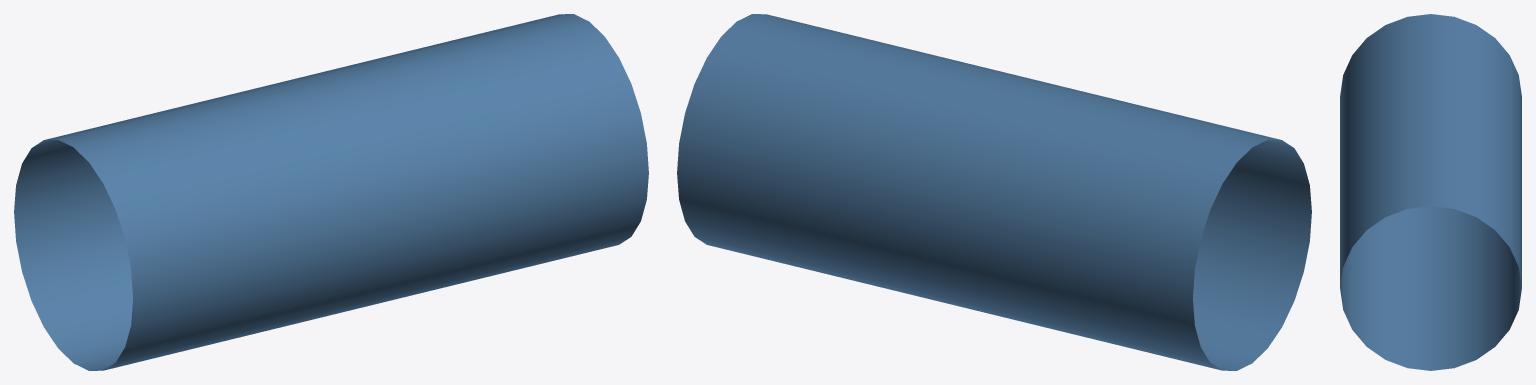
The model's file is Pipe_Short.fbx.
The picture shows the model from 3 angles, left to right: view 1: azimuth 30°, elevation 25°; view 2: azimuth 150°, elevation 25°; view 3: azimuth 270°, elevation 25°; orthographic projection. The views are drawn at different scales.
Visible parts, largest first — view 1: Pipe_Short; view 2: Pipe_Short; view 3: Pipe_Short.
Part boxes in pixels (x1,y1,x2,y2): Pipe_Short: (14, 14, 648, 370); Pipe_Short: (677, 14, 1311, 370); Pipe_Short: (1340, 14, 1521, 370).
Bounding box in the file's own units: 100 × 40 × 40.
